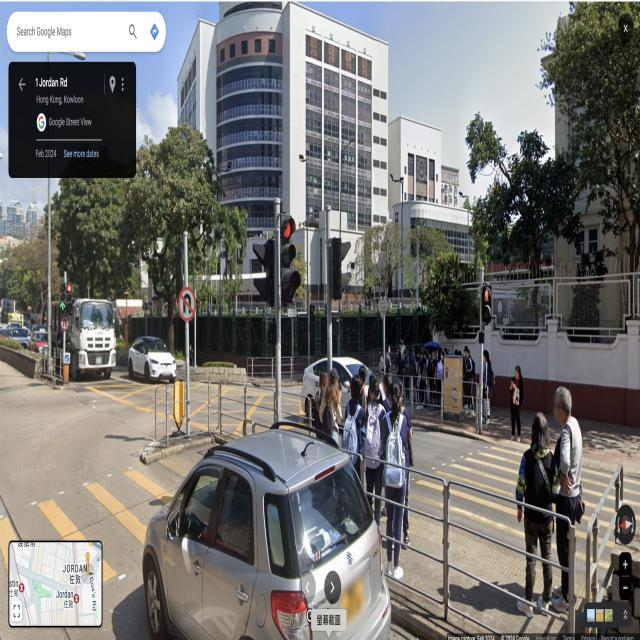Order-Sign: (179, 287, 196, 323), (61, 316, 68, 331)
Street-Direction-Sign: (377, 299, 389, 312)
